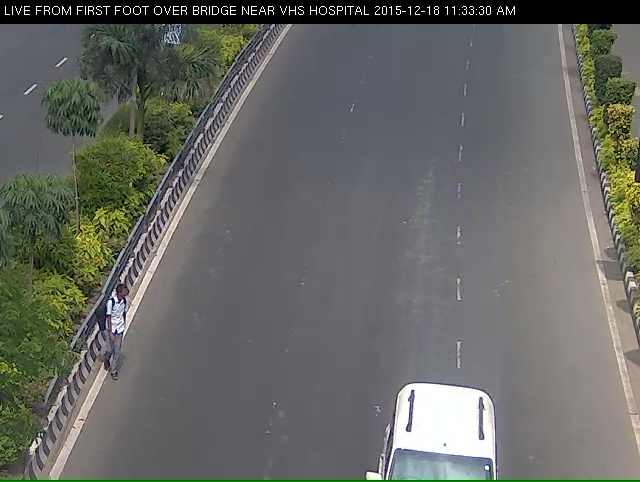Person: (98, 285, 139, 388)
